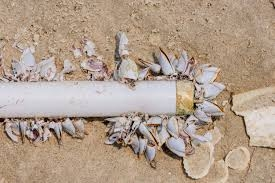glass: (11, 49, 38, 81), (196, 80, 231, 101), (193, 61, 223, 85), (115, 58, 143, 83), (155, 47, 175, 78), (113, 32, 134, 58), (197, 99, 227, 117), (166, 135, 190, 157), (136, 122, 157, 145), (61, 118, 81, 141), (3, 118, 21, 142), (164, 116, 182, 139), (143, 144, 157, 167), (49, 120, 62, 143), (147, 116, 168, 130), (18, 121, 32, 141), (135, 135, 146, 156)
